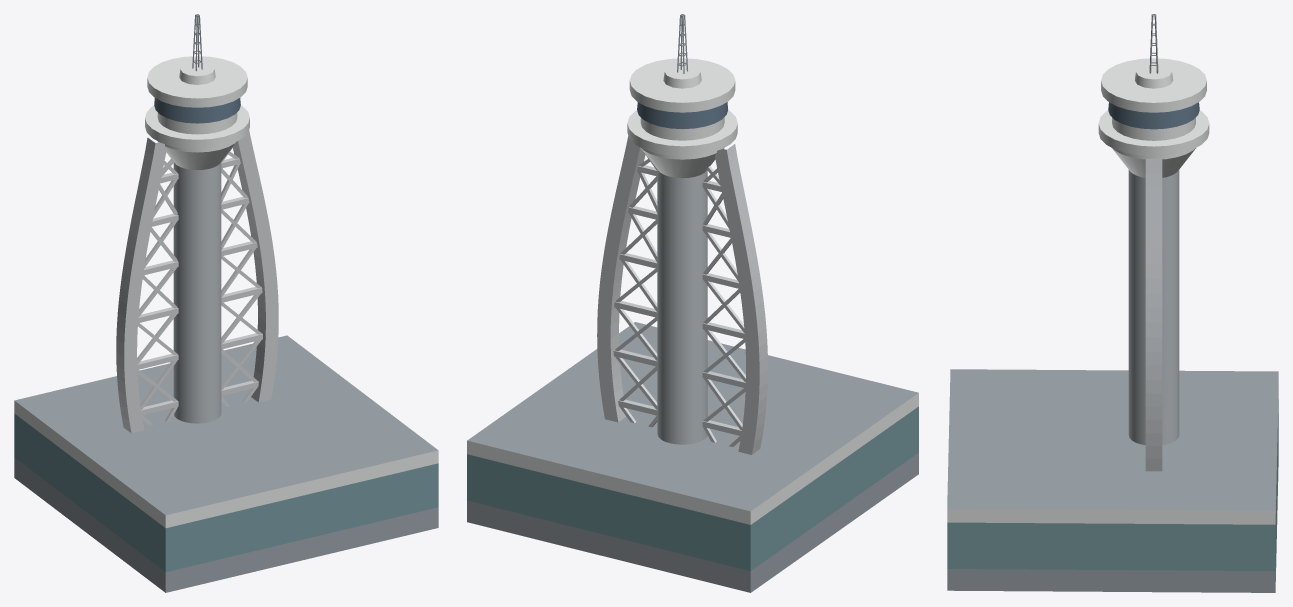
File: dubai-dxb-control-tower.detail.glb
3 renders of one model, left to right at view 1: azimuth 30°, elevation 25°; view 2: azimuth 150°, elevation 25°; view 3: azimuth 270°, elevation 25°, orthographic. The views are drawn at different scales.
Visible parts, largest first — view 1: Dubai International Airport control tower; view 2: Dubai International Airport control tower; view 3: Dubai International Airport control tower.
Boxes of the visible parts, box(x1,y1,x2,y2) form: Dubai International Airport control tower: box(14, 14, 438, 592); Dubai International Airport control tower: box(467, 14, 918, 592); Dubai International Airport control tower: box(947, 14, 1278, 592).
Size of the model in its own units: 55.76 by 92.06 by 55.08.
